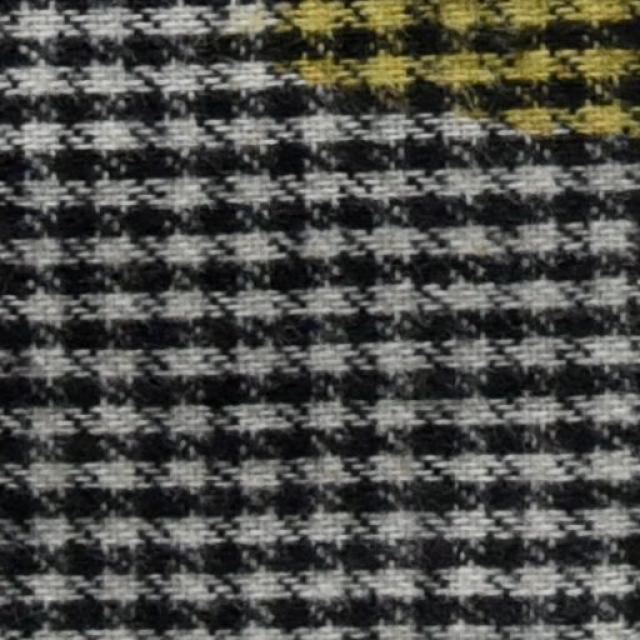Stain: (259, 0, 639, 138)
